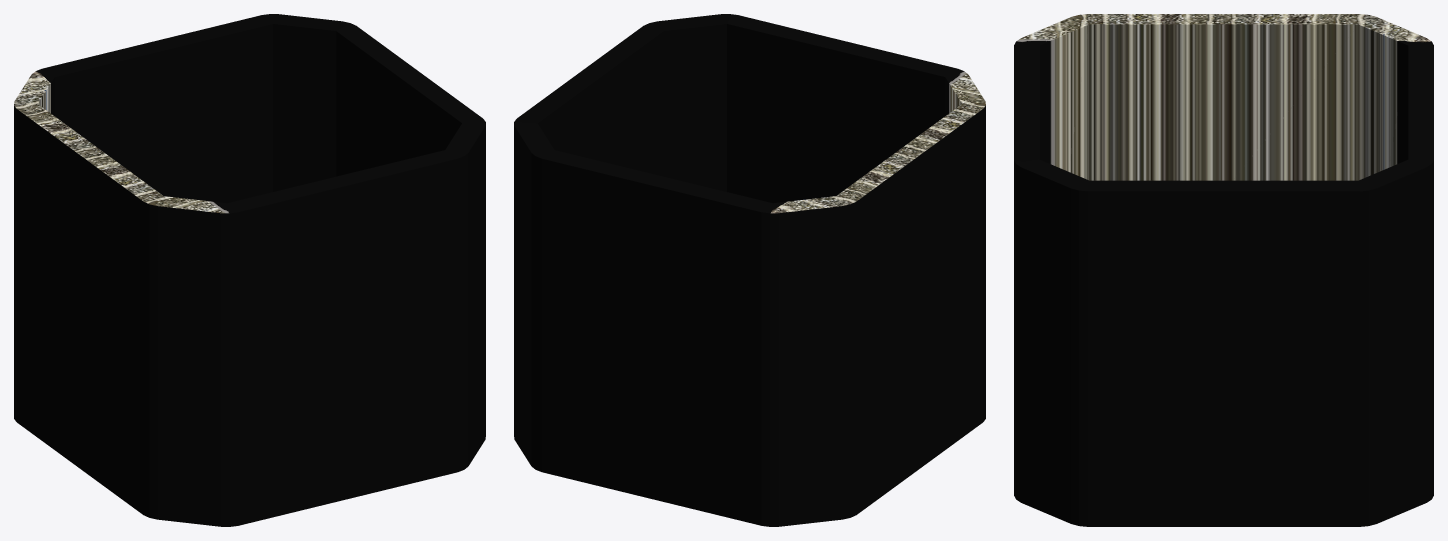
The model's file is boss-arena-walls.obj.
The picture shows the model from 3 angles, left to right: view 1: azimuth 30°, elevation 25°; view 2: azimuth 150°, elevation 25°; view 3: azimuth 270°, elevation 25°; orthographic projection. The views are drawn at different scales.
Parts seen in each view (by area): view 1: Cube.001; view 2: Cube.001; view 3: Cube.001.
Boxes of the visible parts, x1,y1,x2,y2 form: Cube.001: (14, 14, 485, 526); Cube.001: (514, 14, 985, 526); Cube.001: (1014, 14, 1433, 526).
Size of the model in its own units: 16.2 by 14.29 by 16.2.
Materials: 1 (1 with a texture image).
